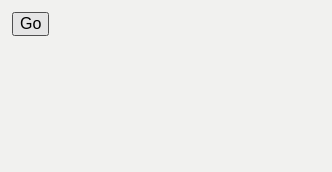
Test: Button › navigates to internal routes
Click the button "Go" at {"x": 31, "y": 24}, box [12,12,49,36]
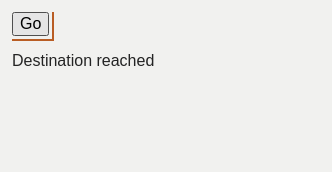
Expected: the text "Destination reached" is shown, [12,52,154,69]
